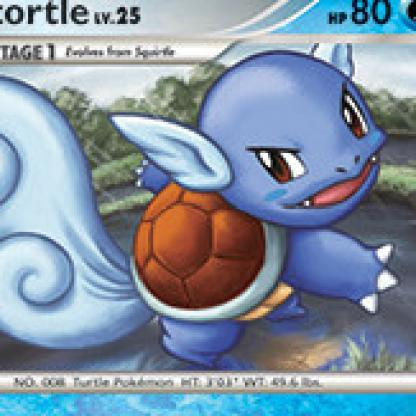Wartortle: (1, 49, 415, 375)
